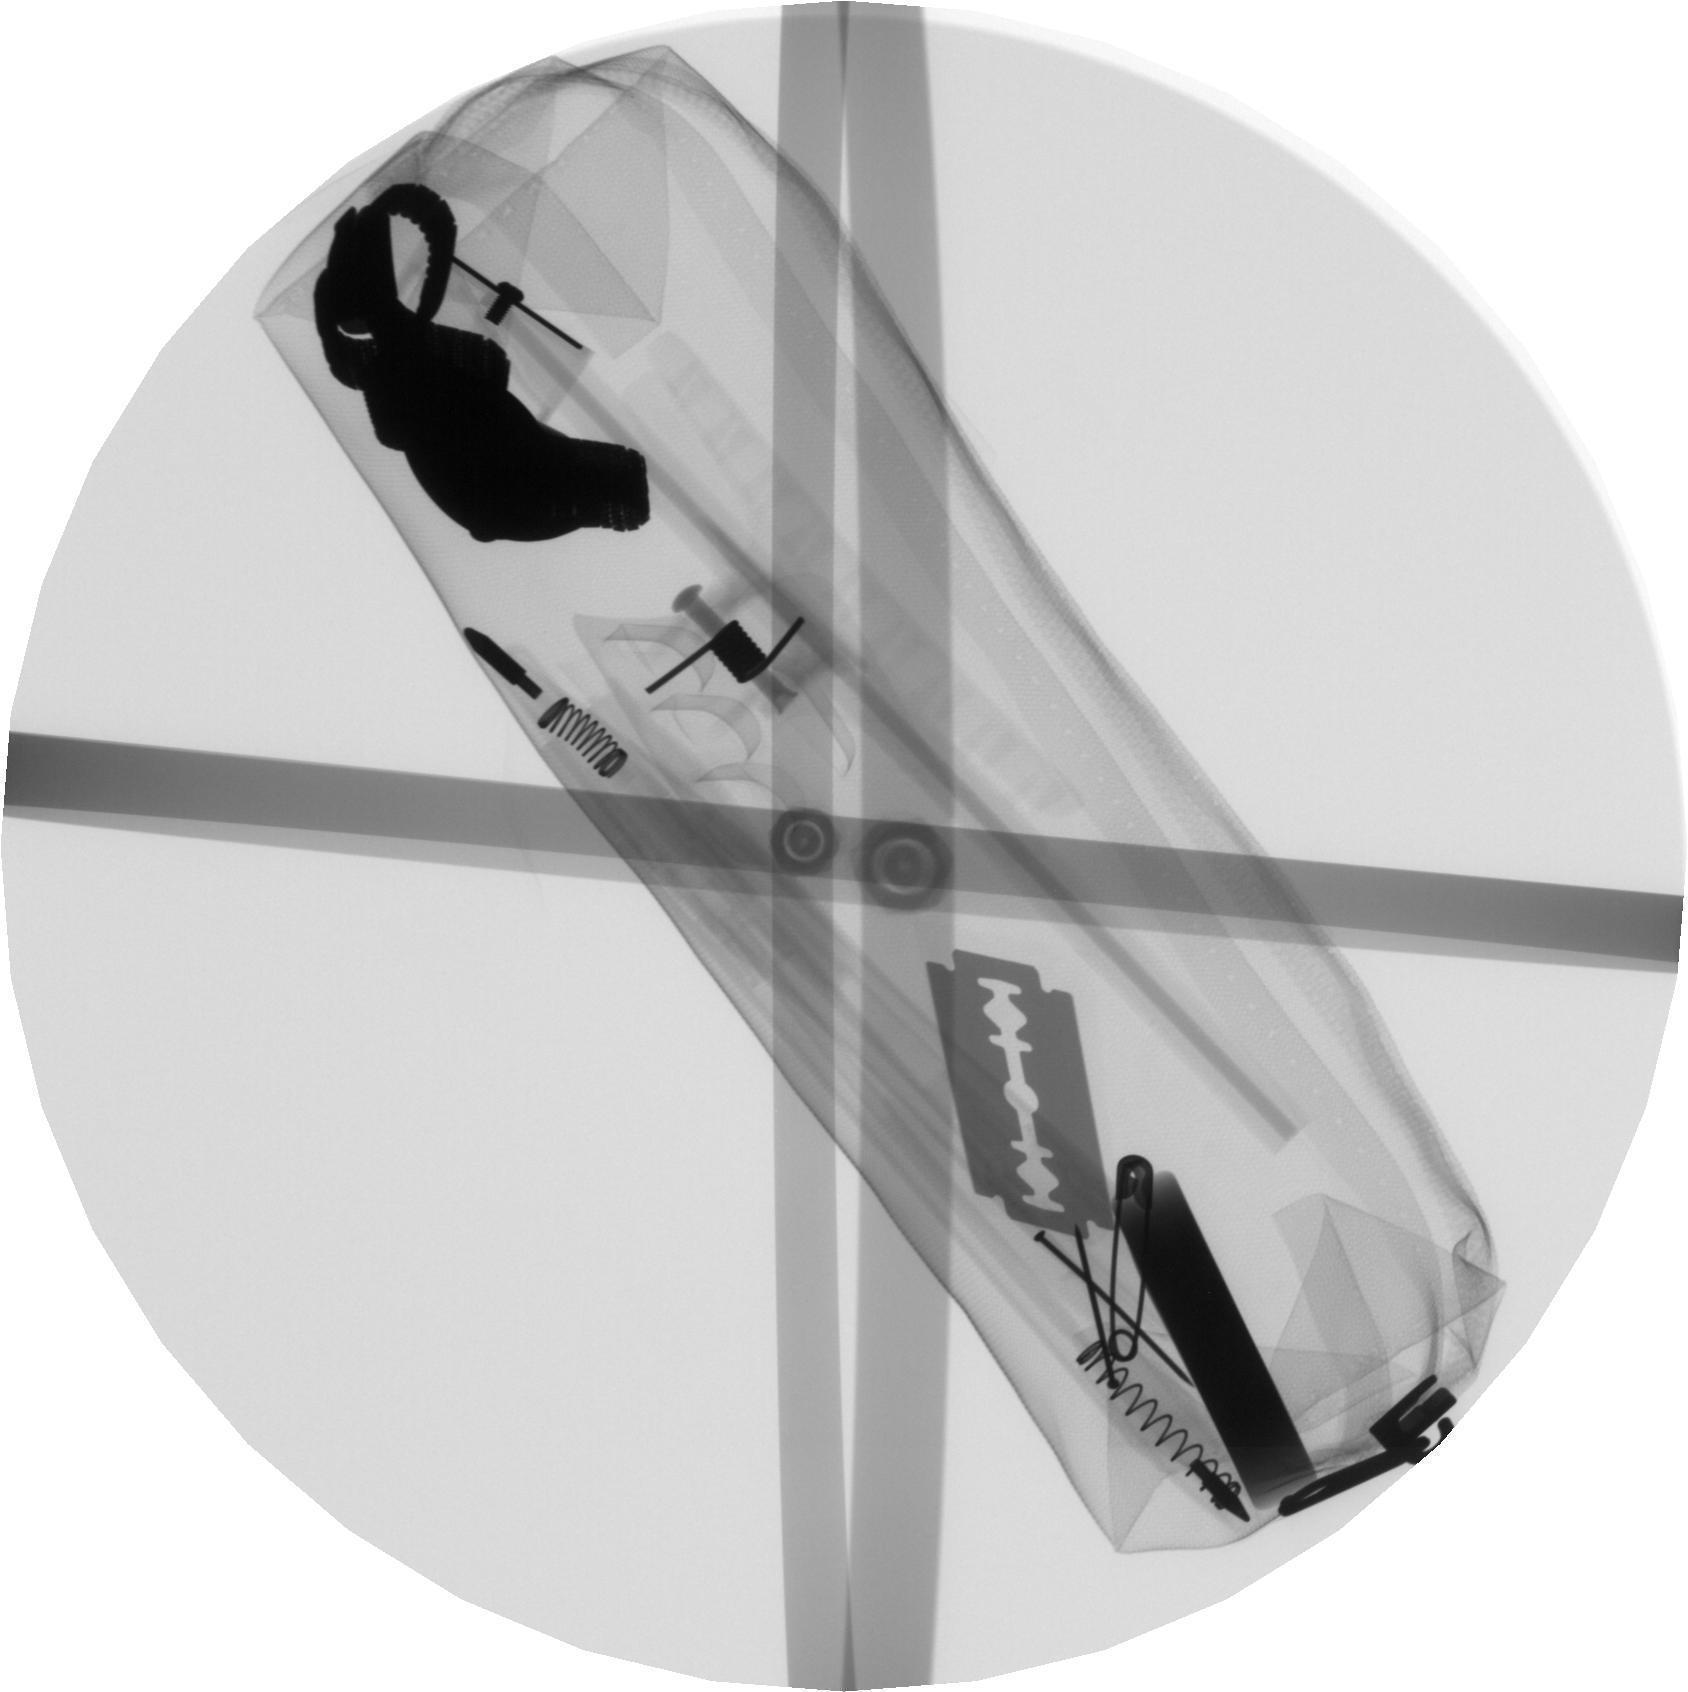RazorBlade: (915, 939, 1127, 1250)
